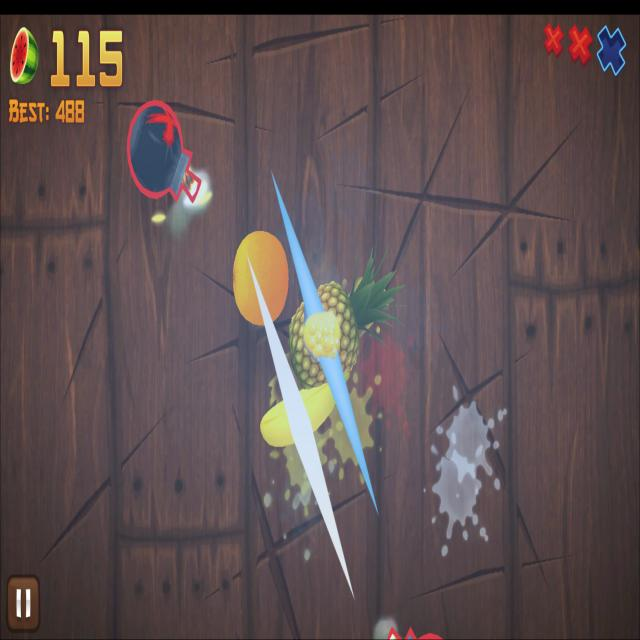bomb: (126, 101, 202, 205)
fruit: (291, 282, 357, 389), (233, 232, 287, 325), (260, 386, 335, 446)
